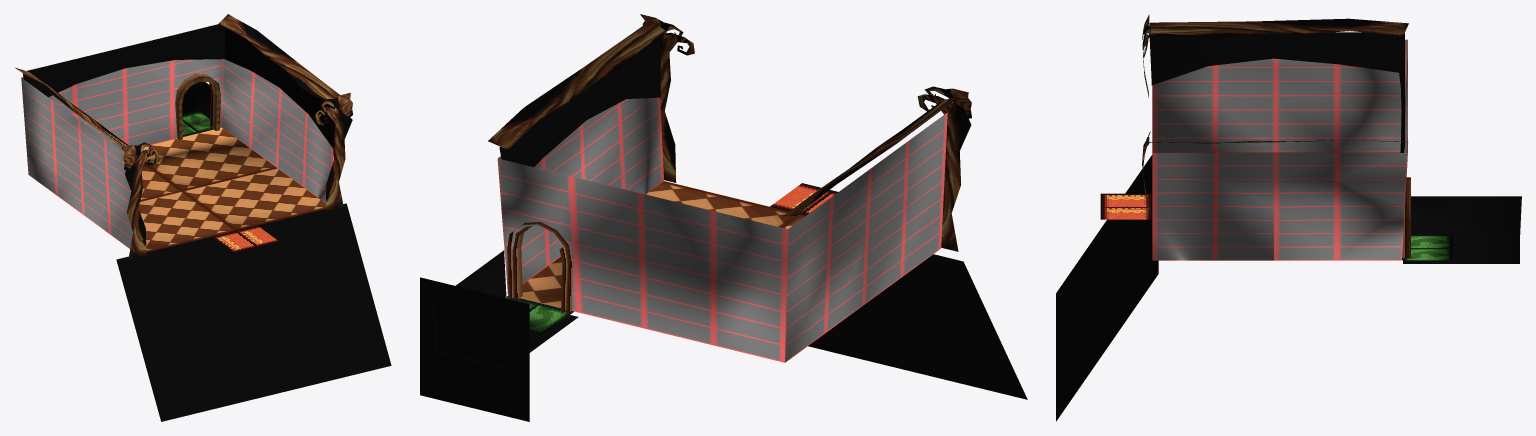
The picture shows the model from 3 angles, left to right: view 1: azimuth 30°, elevation 25°; view 2: azimuth 150°, elevation 25°; view 3: azimuth 270°, elevation 25°; orthographic projection. The views are drawn at different scales.
Parts seen in each view (by area): view 1: sh_npc; view 2: sh_npc; view 3: sh_npc.
Boxes of the visible parts, left/top/right/bottom form: sh_npc: left=15, top=14, right=391, bottom=421; sh_npc: left=420, top=14, right=1027, bottom=421; sh_npc: left=1056, top=14, right=1521, bottom=421.
Bounding box in the file's own units: 5 × 5.07 × 7.66.
Materials: 8 (8 with a texture image).
